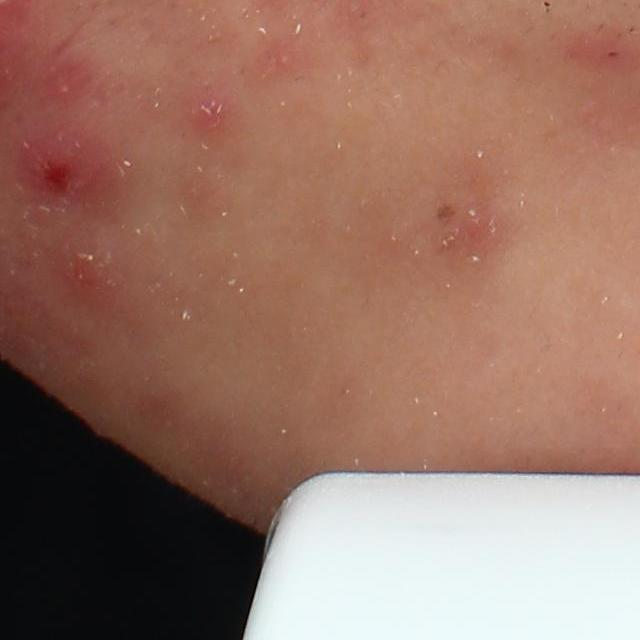papule: (57, 242, 108, 289), (188, 94, 235, 131)
